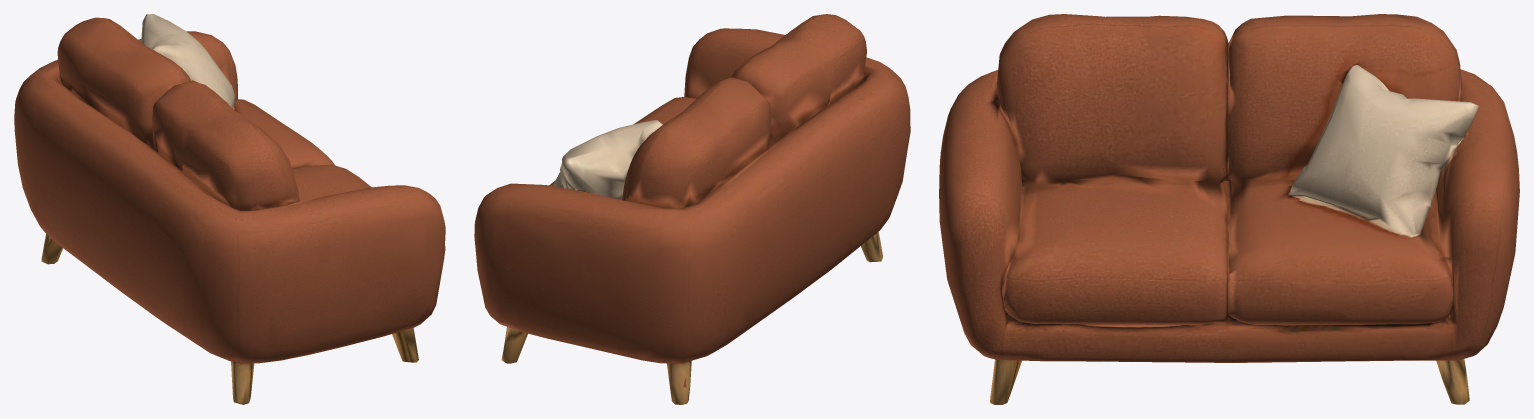
Rendered from sofa.glb.
The picture shows the model from 3 angles, left to right: view 1: azimuth 30°, elevation 25°; view 2: azimuth 150°, elevation 25°; view 3: azimuth 270°, elevation 25°; orthographic projection. The views are drawn at different scales.
Visible parts, largest first — view 1: tripo_node_4bdba13d-1c2c-4838-8013-57b76c14270c; view 2: tripo_node_4bdba13d-1c2c-4838-8013-57b76c14270c; view 3: tripo_node_4bdba13d-1c2c-4838-8013-57b76c14270c.
Part boxes in pixels (box(x1,y1,x2,y2)): tripo_node_4bdba13d-1c2c-4838-8013-57b76c14270c: box(14, 14, 445, 404); tripo_node_4bdba13d-1c2c-4838-8013-57b76c14270c: box(474, 14, 910, 404); tripo_node_4bdba13d-1c2c-4838-8013-57b76c14270c: box(939, 14, 1519, 404).
Size of the model in its own units: 0.586 by 0.5694 by 0.9985.
Materials: 1 (1 with a texture image).
